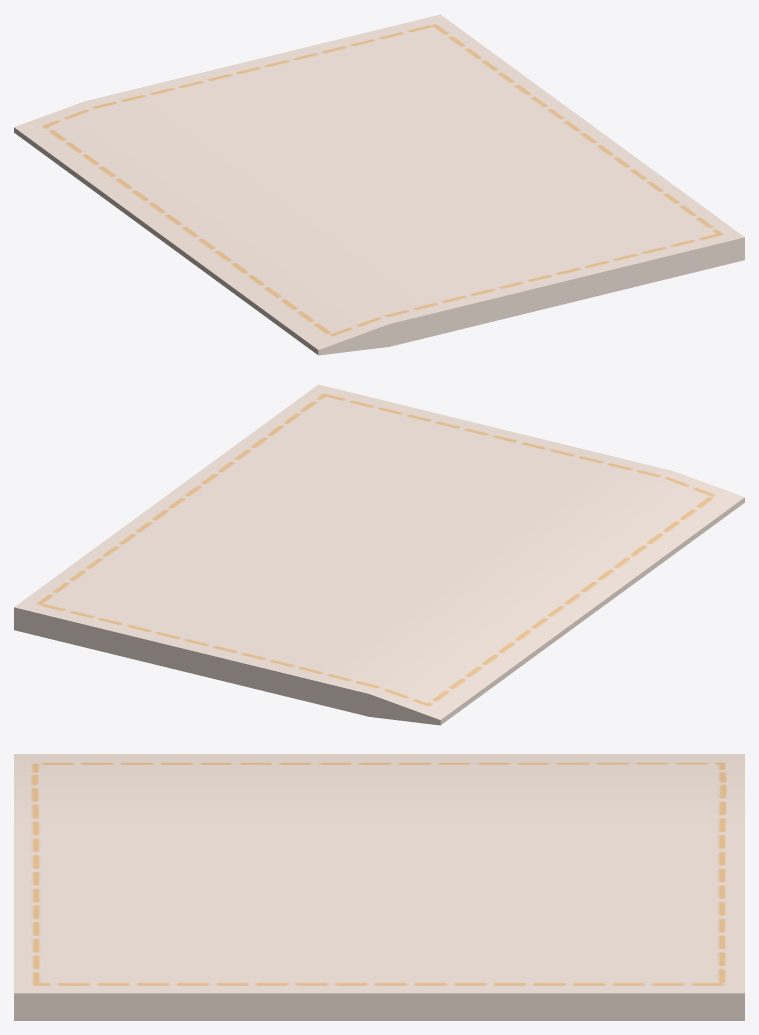
The model's file is BookMiddleTitle.gltf.
3 views of the same model, one above another, from view 1: azimuth 30°, elevation 25°; view 2: azimuth 150°, elevation 25°; view 3: azimuth 270°, elevation 25° (orthographic). The views are drawn at different scales.
Visible parts, largest first — view 1: BookMiddleTitle; view 2: BookMiddleTitle; view 3: BookMiddleTitle.
Boxes of the visible parts, left/top/right/bottom form: BookMiddleTitle: left=14, top=14, right=744, bottom=355; BookMiddleTitle: left=14, top=384, right=744, bottom=725; BookMiddleTitle: left=14, top=754, right=744, bottom=1020.
Bounding box in the file's own units: 4.42 × 0.2852 × 5.47.
Materials: 4 (4 with a texture image).
